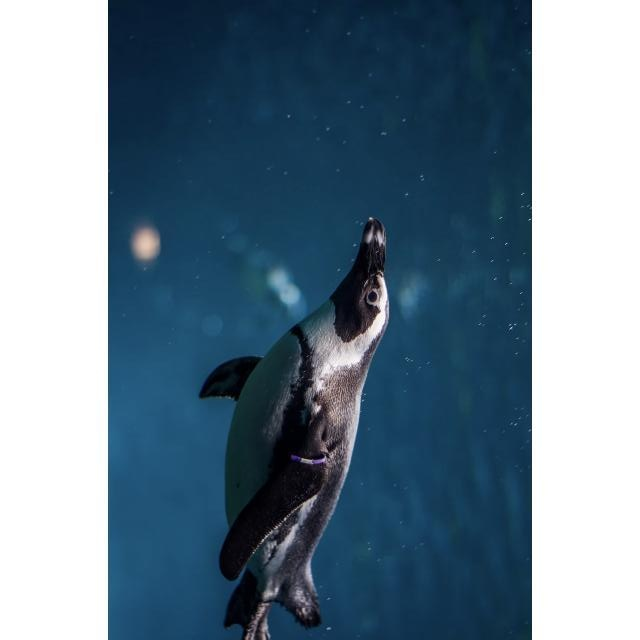penguin: (196, 215, 392, 639)
